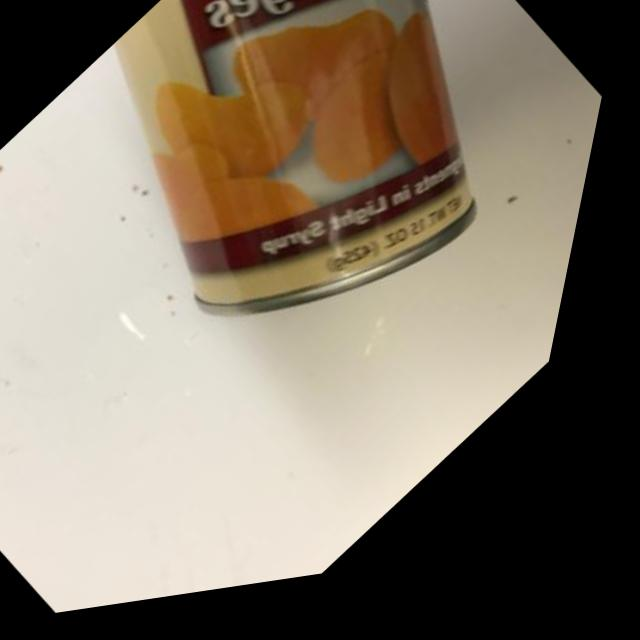metal: (0, 0, 640, 536)
